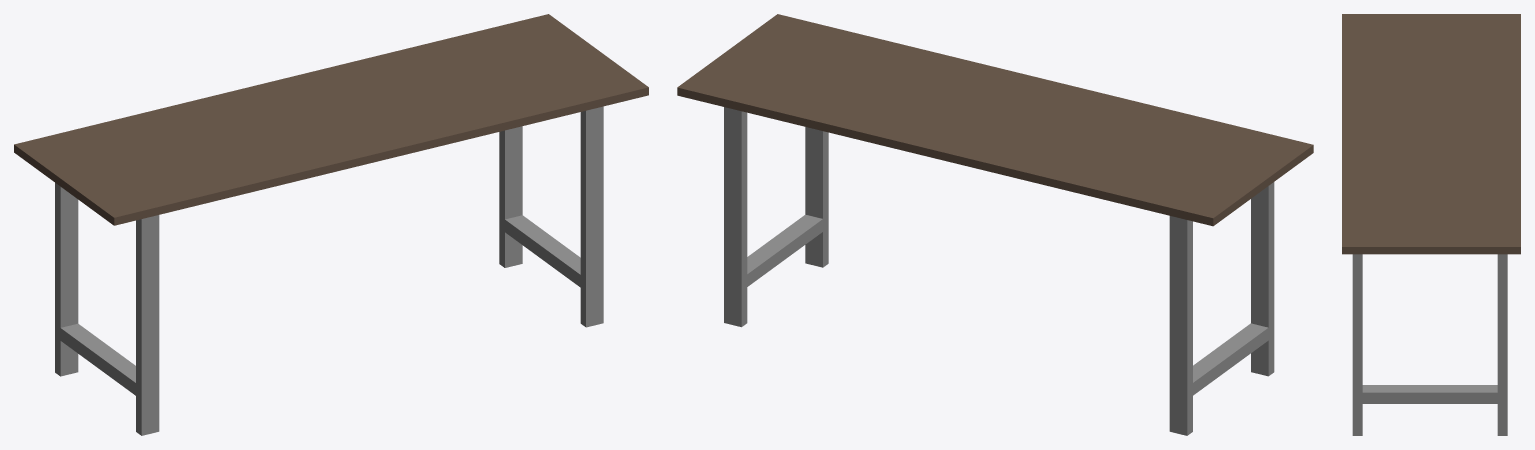
The model's file is Table_13.fbx.
The picture shows the model from 3 angles, left to right: view 1: azimuth 30°, elevation 25°; view 2: azimuth 150°, elevation 25°; view 3: azimuth 270°, elevation 25°; orthographic projection. The views are drawn at different scales.
Parts seen in each view (by area): view 1: Table_13; view 2: Table_13; view 3: Table_13.
Part boxes in pixels (left/top/right/bottom): Table_13: left=14, top=14, right=648, bottom=435; Table_13: left=677, top=14, right=1313, bottom=435; Table_13: left=1342, top=14, right=1520, bottom=435.
Size of the model in its own units: 233 by 75.72 by 96.22.
